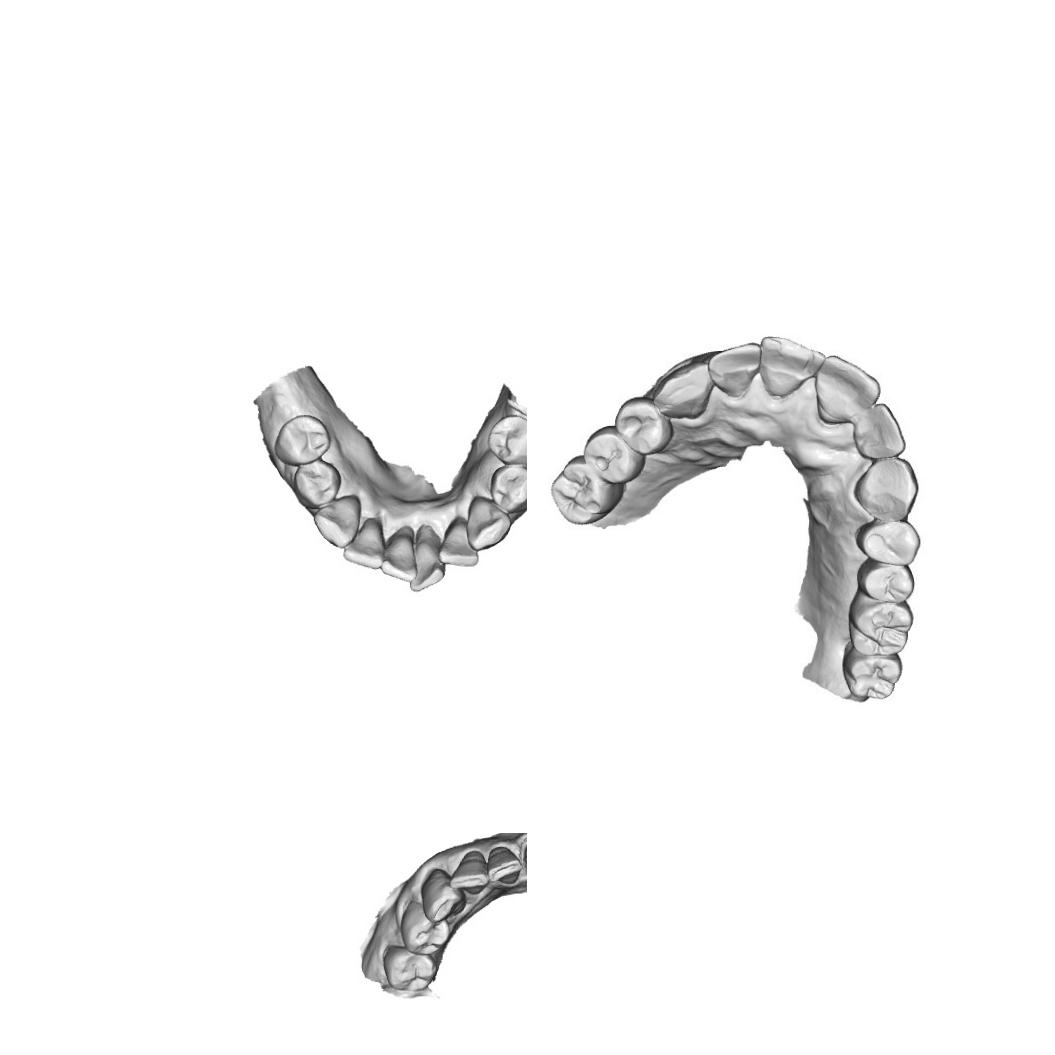canine: (853, 456, 914, 520), (656, 364, 717, 418), (463, 492, 513, 552), (416, 867, 466, 926), (310, 495, 362, 551)
crown: (519, 837, 527, 883)
incisor: (814, 352, 882, 420), (760, 333, 824, 398), (858, 404, 910, 459), (342, 514, 389, 574), (710, 344, 762, 392), (436, 517, 482, 571), (409, 537, 448, 593), (450, 848, 492, 897), (384, 523, 420, 578), (485, 844, 527, 889)
molar: (554, 458, 614, 518), (851, 602, 911, 655), (844, 652, 902, 704)
premolar: (272, 412, 334, 468), (854, 516, 922, 565), (383, 940, 441, 996), (586, 428, 642, 484), (398, 900, 451, 956), (618, 398, 670, 454), (290, 456, 341, 510), (857, 562, 914, 604), (485, 412, 527, 467), (488, 457, 527, 515)
